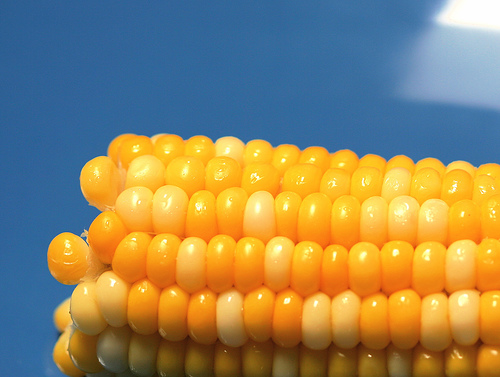corn: (46, 132, 499, 376)
